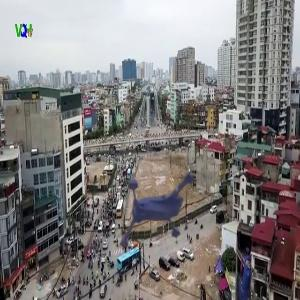drone: (108, 140, 220, 252)
